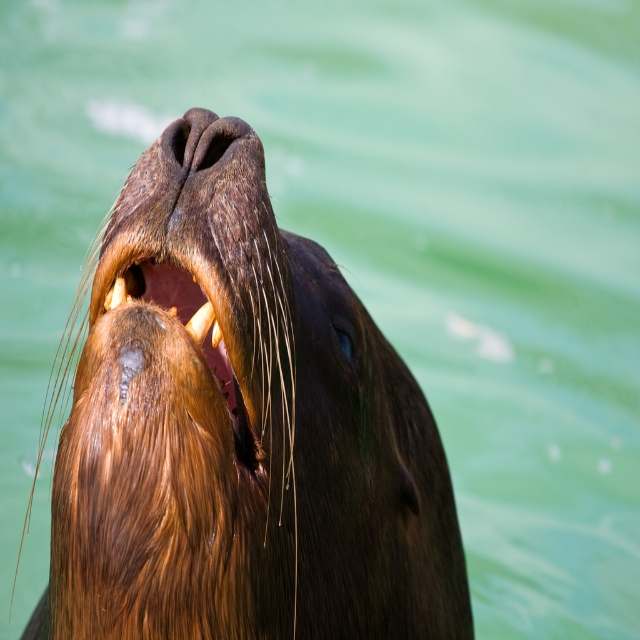Sea lion: (9, 107, 476, 640)
